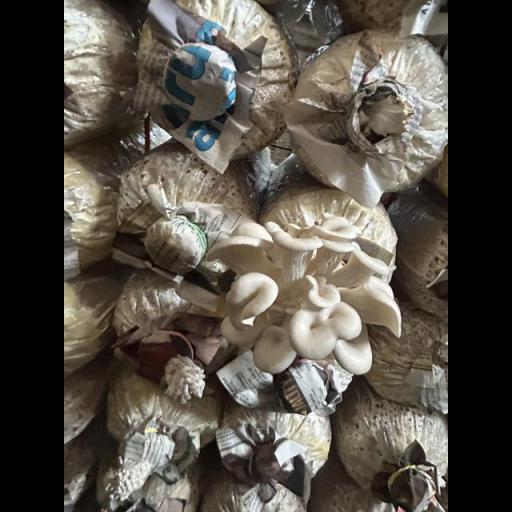White Oyster Mushroom: (204, 215, 404, 378)
